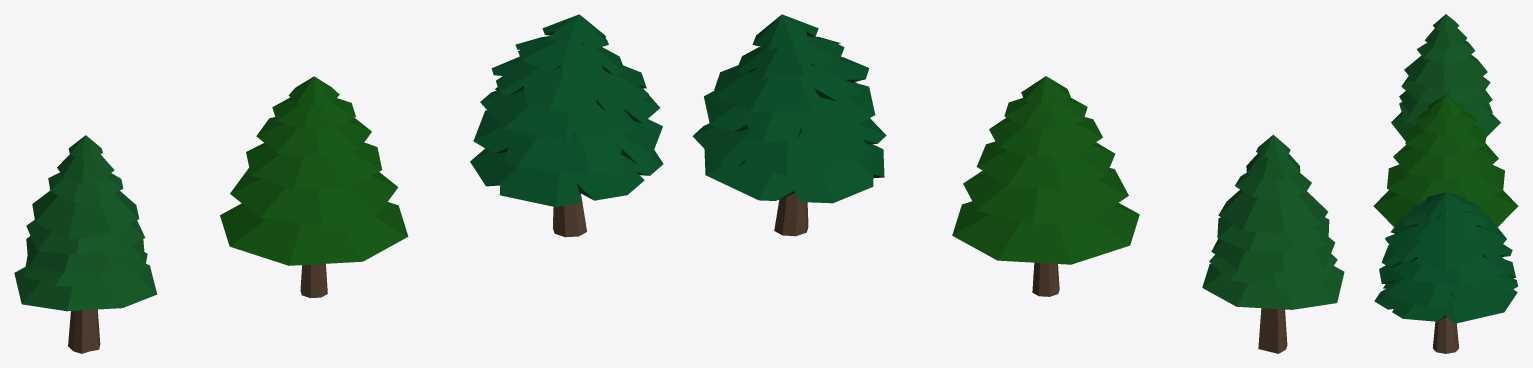
The model's file is LowPolyTrees.fbx.
3 renders of one model, left to right at view 1: azimuth 30°, elevation 25°; view 2: azimuth 150°, elevation 25°; view 3: azimuth 270°, elevation 25°, orthographic. The views are drawn at different scales.
Visible parts, largest first — view 1: Leaves.001, Leaves, Leaves.002, Tree.002, Tree.001, Tree; view 2: Leaves.001, Leaves, Leaves.002, Tree.001, Tree.002, Tree; view 3: Leaves.001, Leaves, Leaves.002, Tree.001.
Part boxes in pixels (x1,y1,x2,y2): Leaves.001: (470,14,663,207); Leaves: (220,76,408,265); Leaves.002: (14,135,157,311); Tree.002: (68,309,100,353); Tree.001: (552,192,586,237); Tree: (300,263,327,298); Leaves.001: (692,14,886,203); Leaves: (952,76,1139,264); Leaves.002: (1202,134,1344,309); Tree.001: (774,193,808,236); Tree.002: (1258,308,1287,353); Tree: (1032,262,1059,296); Leaves.001: (1374,192,1518,323); Leaves: (1373,95,1518,227); Leaves.002: (1391,14,1500,140); Tree.001: (1433,316,1458,353).
Size of the model in its own units: 5122 by 1681 by 1376.
